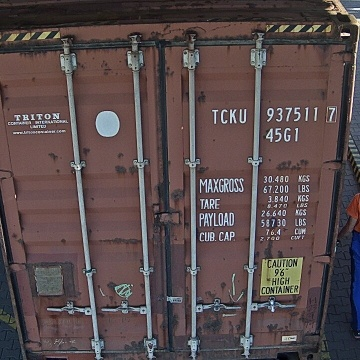serial_id: (212, 106, 336, 123)
